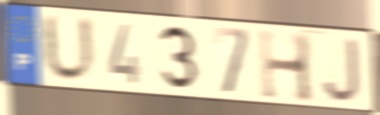3: (157, 23, 202, 94)
4: (107, 23, 142, 85)
7: (212, 24, 251, 98)
H: (257, 26, 317, 105)
J: (320, 36, 363, 104)
U: (40, 11, 99, 86)
